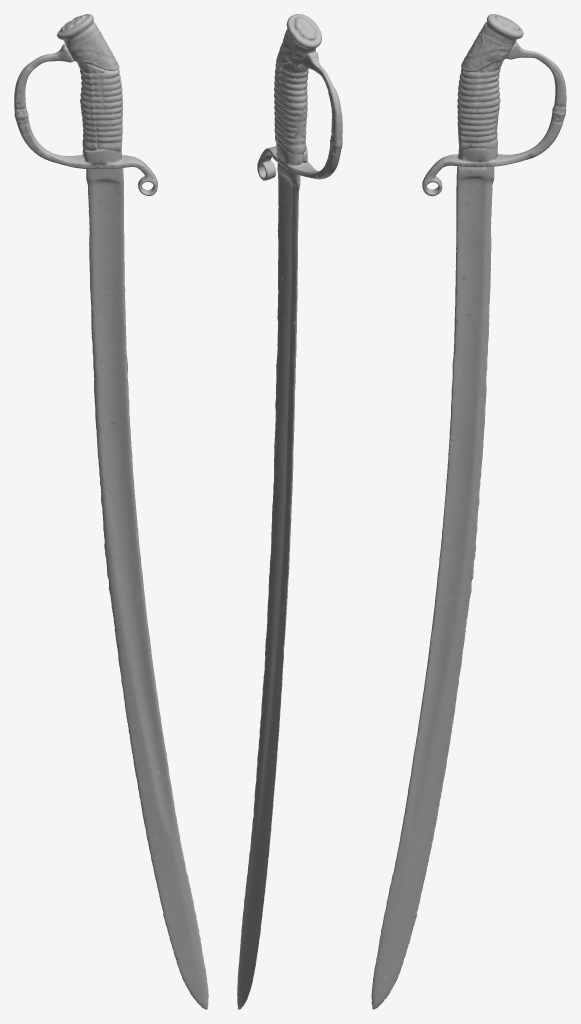
3 views of the same model, side by side, from view 1: azimuth 90°, elevation 25°; view 2: azimuth 210°, elevation 25°; view 3: azimuth 270°, elevation 25° (orthographic). The views are drawn at different scales.
Parts seen in each view (by area): view 1: object; view 2: object; view 3: object.
Boxes of the visible parts, box(x1,y1,x2,y2) form: object: box(14, 14, 208, 1009); object: box(237, 14, 342, 1009); object: box(371, 14, 566, 1009).
Size of the model in its own units: 3.09 by 115 by 20.4.
Materials: 1 (1 with a texture image).
